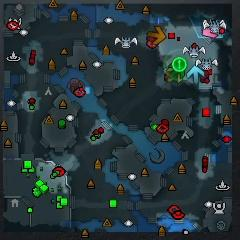Other: (172, 57, 187, 72)
x1: (202, 27, 217, 38)
x2: (165, 67, 182, 84)
x3: (187, 66, 205, 85)
x4: (168, 63, 185, 79)
x5: (148, 26, 167, 45)
